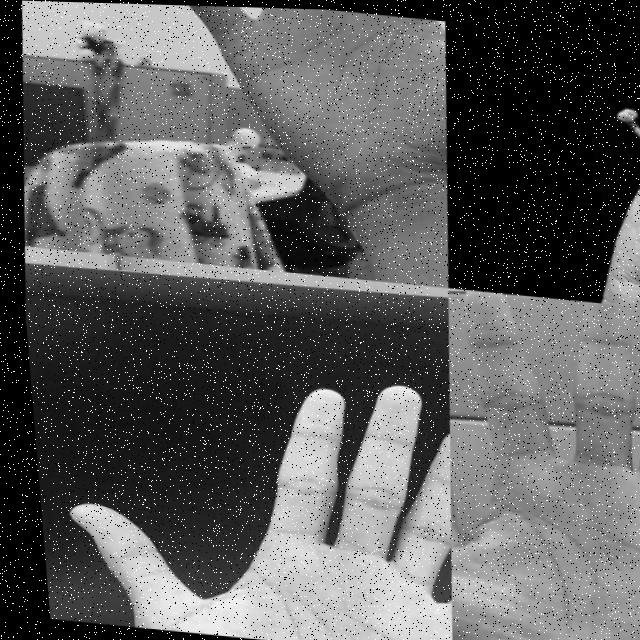hand: (38, 349, 459, 640), (417, 284, 640, 640), (133, 3, 456, 202), (544, 117, 640, 305)
